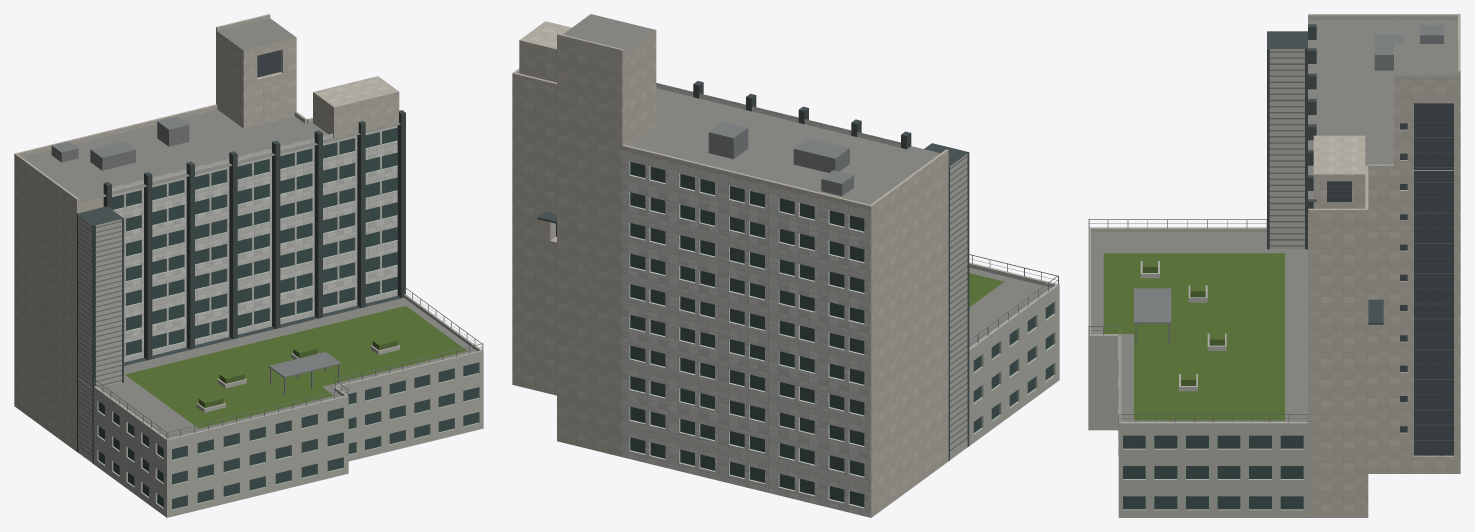
The picture shows the model from 3 angles, left to right: view 1: azimuth 30°, elevation 25°; view 2: azimuth 150°, elevation 25°; view 3: azimuth 270°, elevation 25°; orthographic projection. The views are drawn at different scales.
Visible parts, largest first — view 1: suseon__concrete, suseon__stone, suseon__glass, suseon__panel, suseon__roof, suseon__garden, suseon__pier, suseon__frame, suseon__metal, suseon__glassDark; view 2: suseon__stone, suseon__panel, suseon__glass, suseon__roof, suseon__concrete, suseon__metal, suseon__frame, suseon__pier, suseon__garden; view 3: suseon__stone, suseon__garden, suseon__concrete, suseon__roof, suseon__glassDark, suseon__metal, suseon__pier, suseon__glass, suseon__frame.
Part boxes in pixels (<box>): suseon__concrete: <box>78,215,483,517</box>; suseon__stone: <box>14,14,399,451</box>; suseon__glass: <box>99,128,478,508</box>; suseon__panel: <box>112,125,397,362</box>; suseon__roof: <box>22,18,476,438</box>; suseon__garden: <box>125,306,466,428</box>; suseon__pier: <box>77,50,405,463</box>; suseon__frame: <box>98,128,478,509</box>; suseon__metal: <box>51,116,483,455</box>; suseon__glassDark: <box>257,50,280,76</box>; suseon__stone: <box>512,21,948,517</box>; suseon__panel: <box>622,83,900,517</box>; suseon__glass: <box>556,162,1053,506</box>; suseon__roof: <box>563,14,1051,368</box>; suseon__concrete: <box>950,154,1059,459</box>; suseon__metal: <box>708,121,1058,450</box>; suseon__frame: <box>630,161,1053,507</box>; suseon__pier: <box>537,81,969,460</box>; suseon__garden: <box>969,273,1003,306</box>; suseon__stone: <box>1308,14,1460,517</box>; suseon__garden: <box>1103,253,1284,420</box>; suseon__concrete: <box>1088,49,1307,517</box>; suseon__roof: <box>1091,20,1458,421</box>; suseon__glassDark: <box>1327,103,1453,455</box>; suseon__metal: <box>1088,25,1443,422</box>; suseon__pier: <box>1267,24,1453,455</box>; suseon__glass: <box>1123,435,1302,508</box>; suseon__frame: <box>1123,435,1303,509</box>.
Bounding box in the file's own units: 48.53 × 46.5 × 39.01.
Materials: 10 (2 with a texture image).
